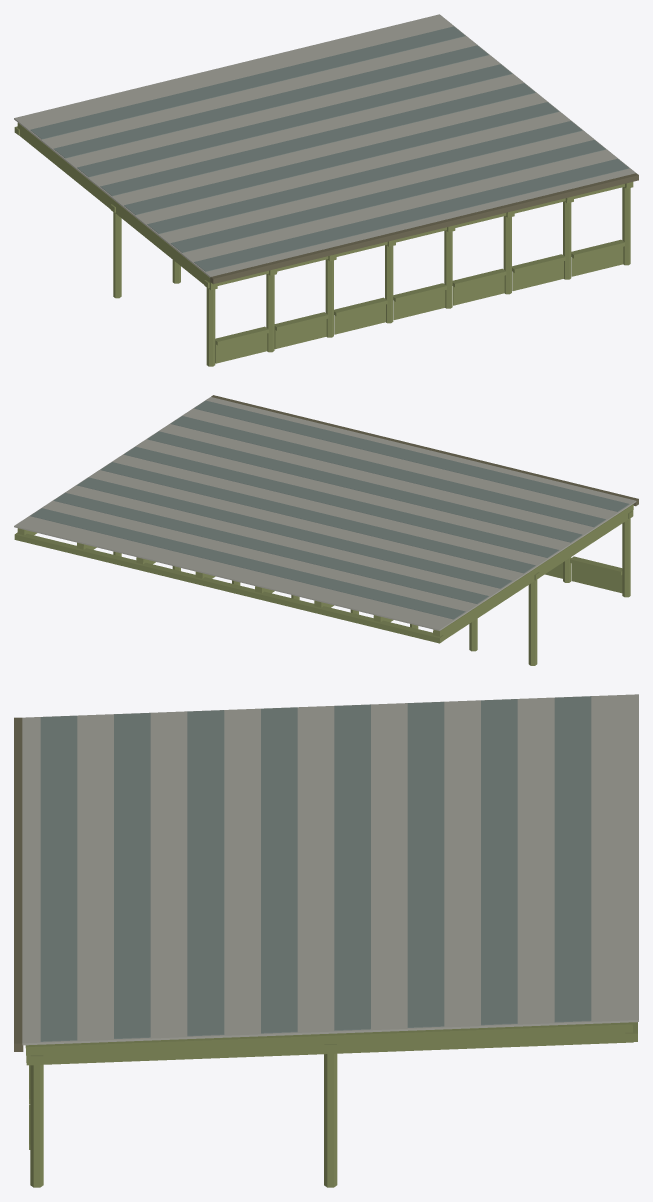
Rendered from SM_MarquesinaAdosada_v0_LOD1.fbx.
3 renders of one model, top to bottom at view 1: azimuth 30°, elevation 25°; view 2: azimuth 150°, elevation 25°; view 3: azimuth 270°, elevation 25°, orthographic. The views are drawn at different scales.
Parts seen in each view (by area): view 1: SM_marquesina_adosada_v0_LOD1; view 2: SM_marquesina_adosada_v0_LOD1; view 3: SM_marquesina_adosada_v0_LOD1.
Boxes of the visible parts, box(x1,y1,x2,y2) form: SM_marquesina_adosada_v0_LOD1: box(14, 14, 638, 366); SM_marquesina_adosada_v0_LOD1: box(14, 395, 638, 665); SM_marquesina_adosada_v0_LOD1: box(14, 694, 638, 1187).
Size of the model in its own units: 21 by 5.08 by 17.03.
